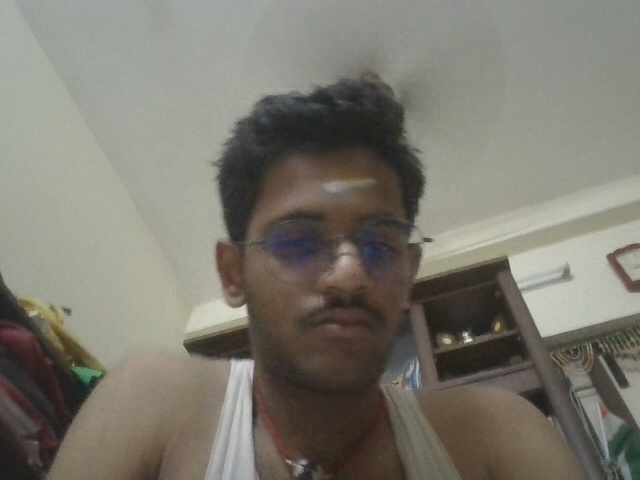real: (230, 154, 454, 378)
